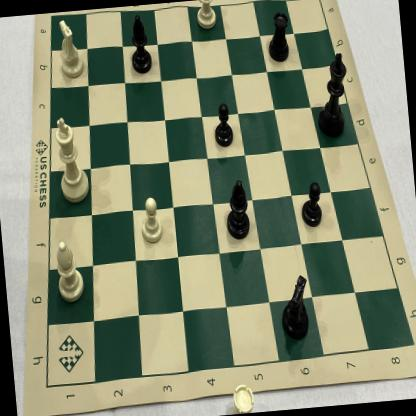bishop: (49, 235, 88, 307), (122, 6, 159, 80), (222, 175, 254, 245), (192, 0, 223, 34)
king: (48, 110, 97, 209), (308, 46, 356, 142)
knight: (275, 270, 320, 348), (52, 10, 90, 86)
pawn: (136, 191, 167, 248), (296, 177, 328, 232), (209, 98, 237, 152)
rook: (264, 4, 296, 69)
